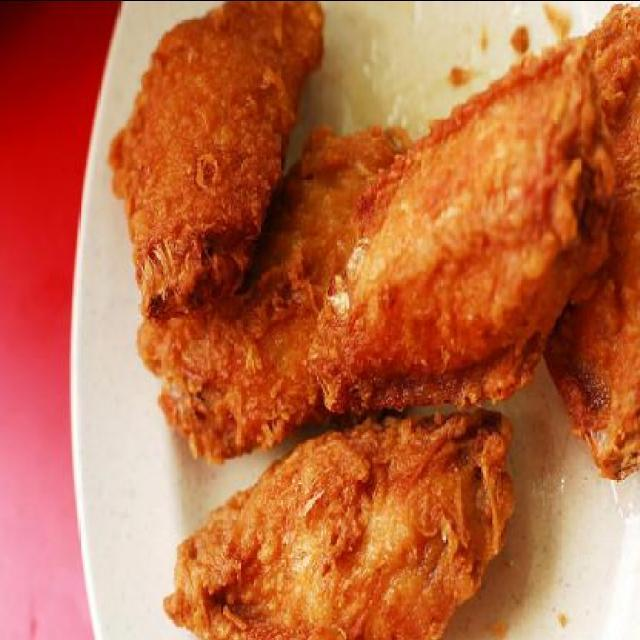Deep fried chicken wing: (116, 23, 614, 623)
